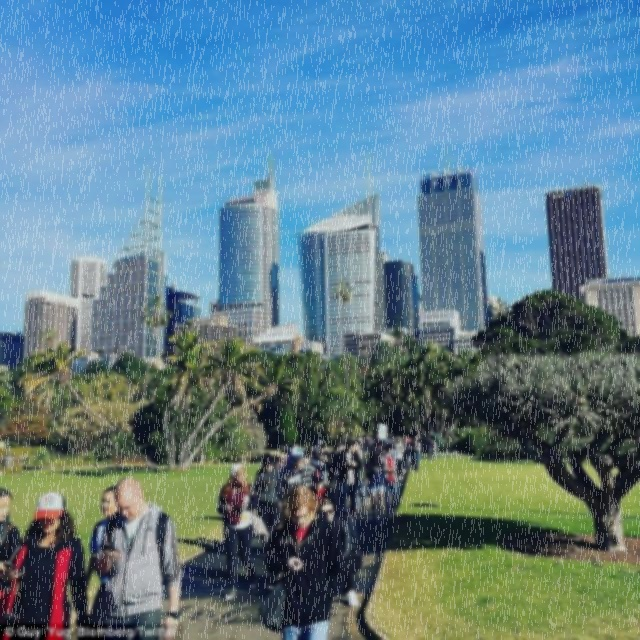pessoa: (94, 476, 185, 638), (0, 486, 93, 640), (264, 484, 348, 640), (217, 462, 260, 602), (316, 496, 364, 608), (84, 484, 120, 624), (252, 452, 285, 562), (274, 445, 318, 505), (334, 438, 364, 521), (0, 488, 23, 592), (379, 441, 402, 520), (364, 449, 386, 527), (308, 468, 342, 518), (352, 439, 370, 516), (303, 445, 329, 477), (300, 441, 334, 465), (407, 435, 423, 473), (268, 449, 294, 472), (394, 436, 406, 483), (328, 440, 344, 465), (368, 435, 392, 451), (402, 436, 411, 473), (423, 435, 435, 461), (429, 437, 439, 463), (402, 433, 412, 446), (392, 435, 399, 446)
